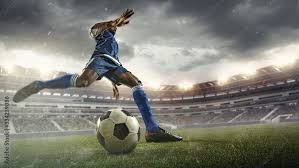football ball: (94, 108, 143, 155)
